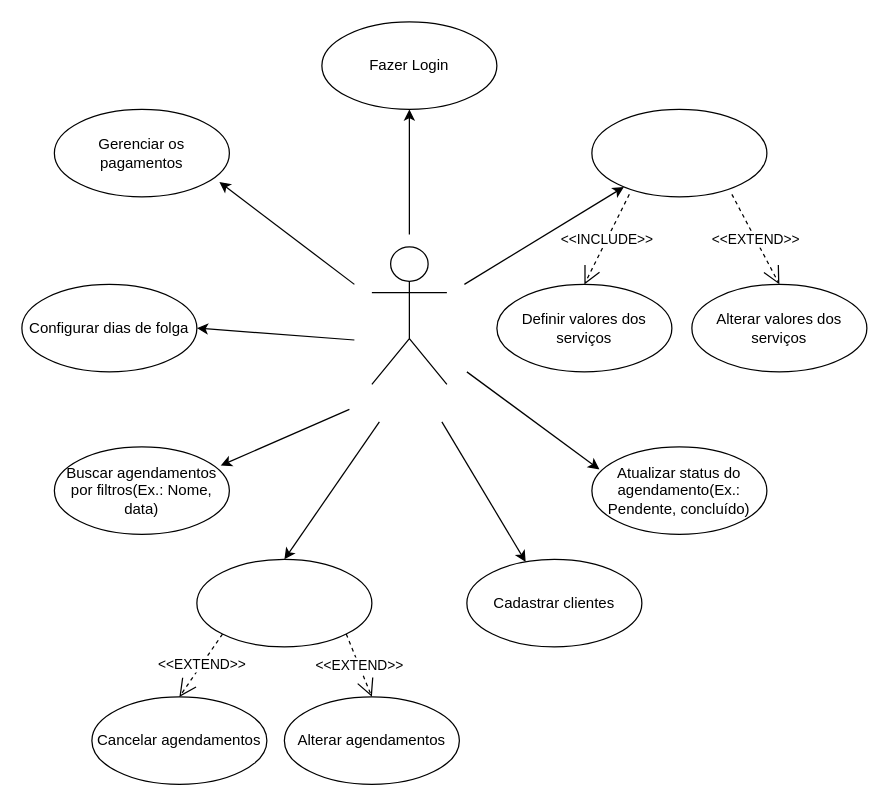
This 889x806 diagram has some shape labels left out. The shapes that lost their labels are listed below. From the top down, each one's centre as x and y in pixels, then its label:
the point at 679,152: Cadastrar serviços/especializações
the point at 409,315: Administrador
the point at 284,602: Agendar atendimentos
